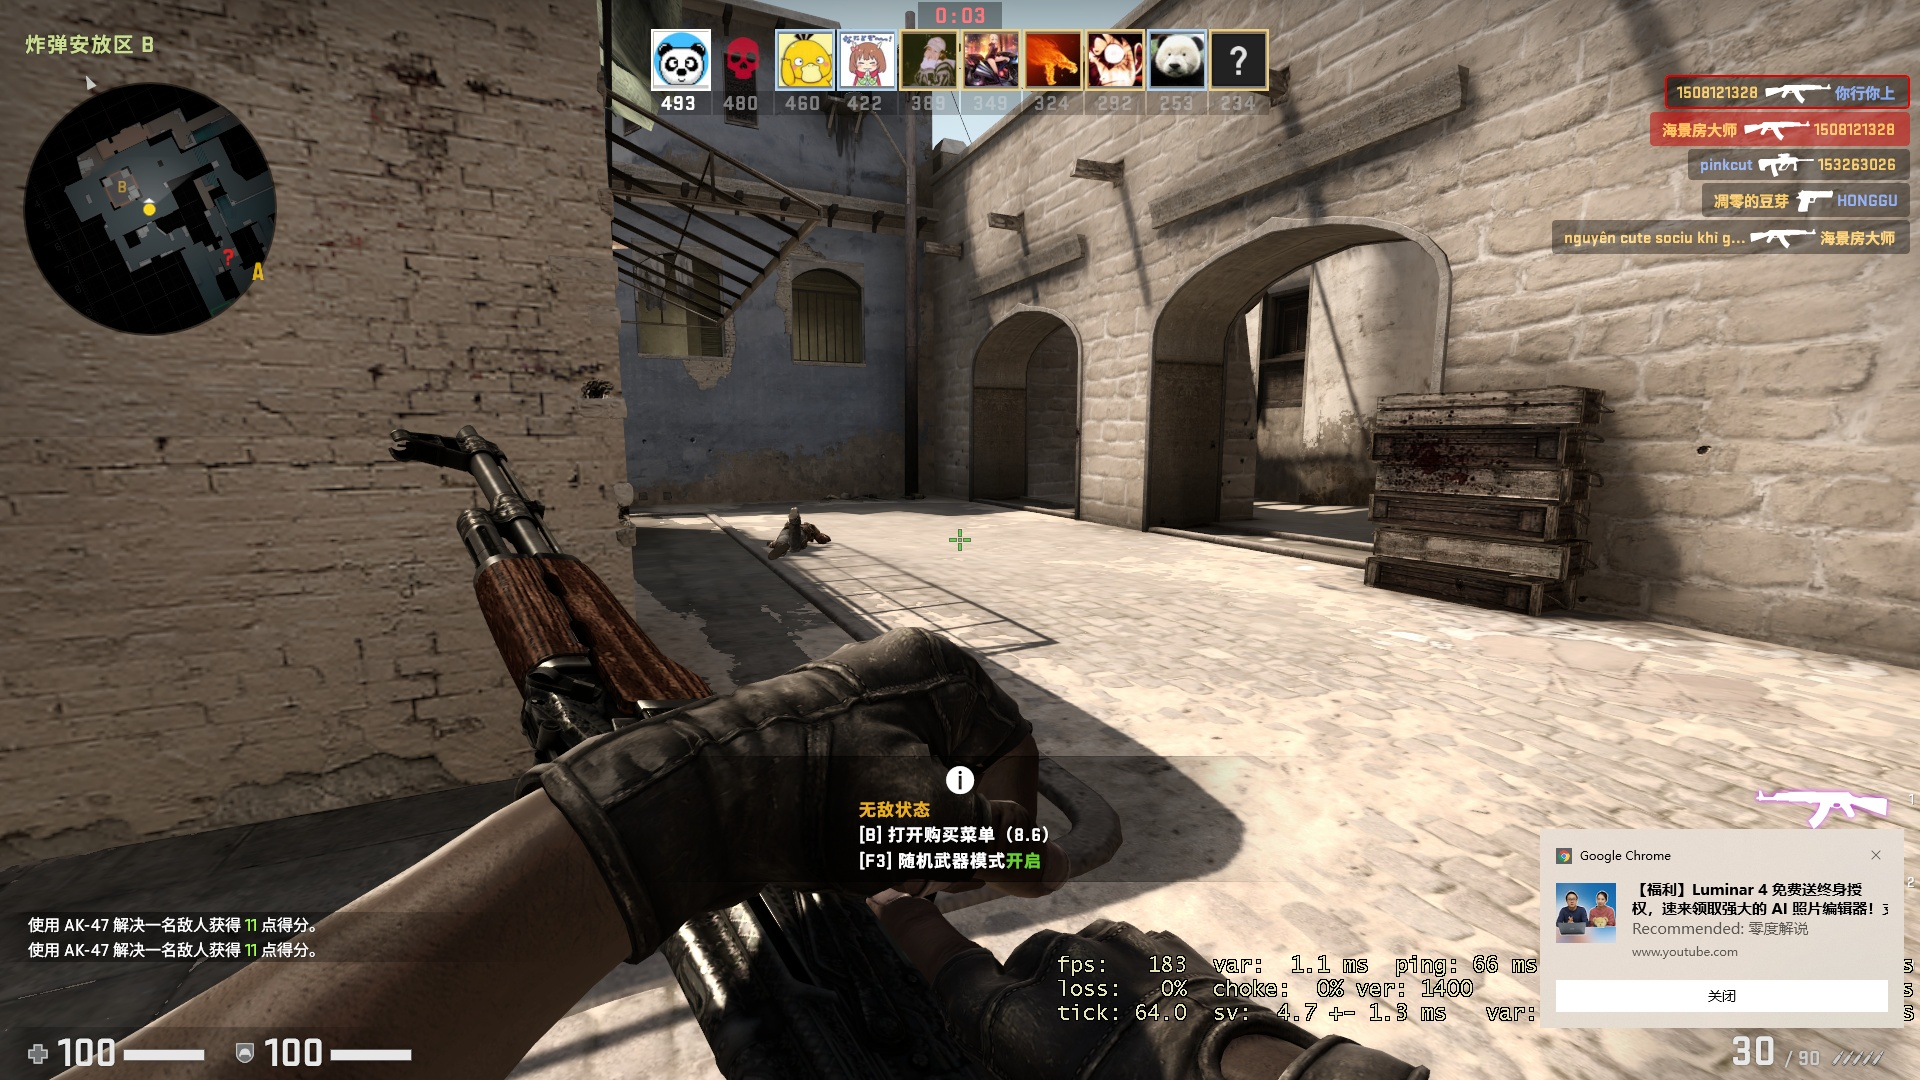body: (769, 510, 825, 560)
